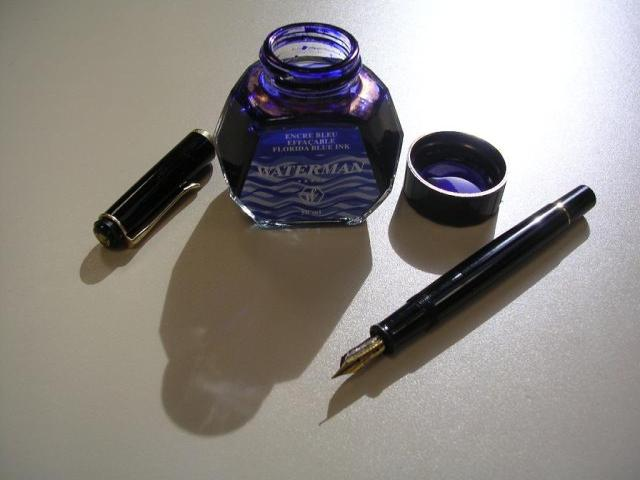PEN: (308, 165, 615, 400)
